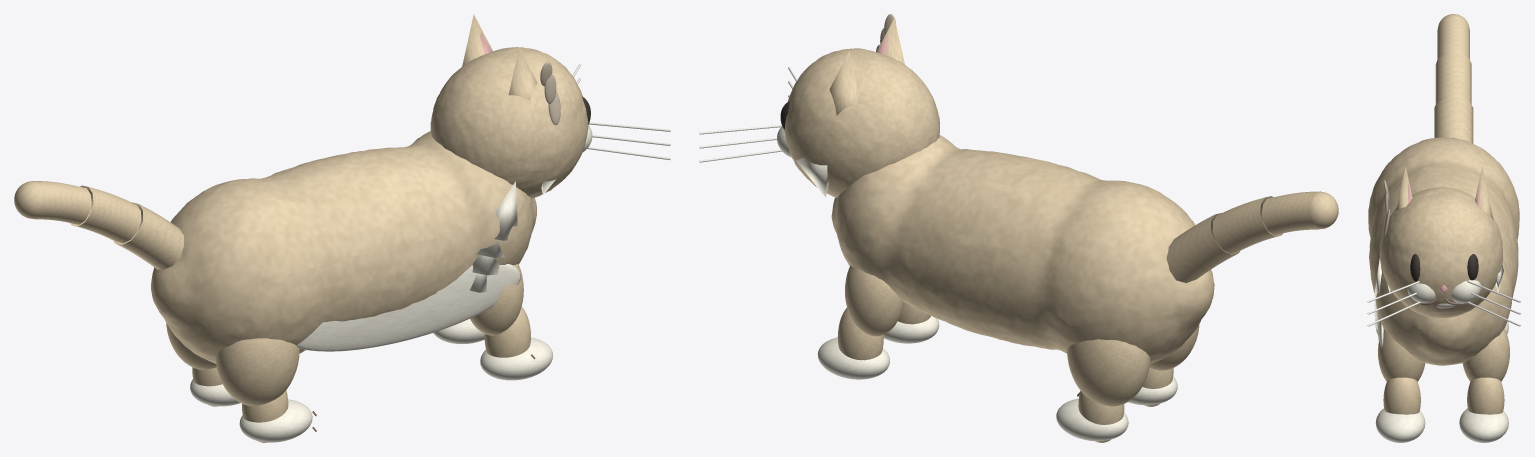
The model's file is cat-cream.glb.
The picture shows the model from 3 angles, left to right: view 1: azimuth 30°, elevation 25°; view 2: azimuth 150°, elevation 25°; view 3: azimuth 270°, elevation 25°; orthographic projection. The views are drawn at different scales.
Parts seen in each view (by area): view 1: Body.002, HeadMesh.002, BellyPatch.002, UpperLeg_BL.002, TailMesh_0.002, TailMesh_1.002, TailMesh_2.002, Paw_FL.002, Paw_BL.002, UpperLeg_FL.002, LowerLeg_FL.002, TailTip.002 (+7 smaller); view 2: Body.002, HeadMesh.002, UpperLeg_BR.002, UpperLeg_FR.002, TailMesh_0.002, TailMesh_1.002, TailMesh_2.002, Paw_FR.002, Paw_BR.002, LowerLeg_FR.002, Ear_Far.002, Paw_FL.002 (+5 smaller); view 3: Body.002, HeadMesh.002, TailMesh_1.002, TailMesh_0.002, UpperLeg_FR.002, UpperLeg_FL.002, LowerLeg_FR.002, LowerLeg_FL.002, Paw_FL.002, Paw_FR.002, TailMesh_2.002, Muzzle_Far.002 (+6 smaller).
Boxes of the visible parts, x1,y1,x2,y2 form: Body.002: (151, 131, 536, 363); HeadMesh.002: (430, 47, 588, 198); BellyPatch.002: (297, 264, 520, 351); UpperLeg_BL.002: (215, 338, 299, 406); TailMesh_0.002: (113, 202, 183, 269); TailMesh_1.002: (70, 185, 141, 243); TailMesh_2.002: (34, 181, 91, 224); Paw_FL.002: (480, 337, 552, 380); Paw_BL.002: (239, 399, 312, 442); UpperLeg_FL.002: (470, 264, 523, 335); LowerLeg_FL.002: (484, 306, 530, 357); TailTip.002: (14, 181, 44, 218); Body.002: (831, 135, 1214, 364); HeadMesh.002: (784, 48, 939, 197); UpperLeg_BR.002: (1067, 339, 1150, 406); UpperLeg_FR.002: (845, 265, 903, 336); TailMesh_0.002: (1166, 213, 1239, 282); TailMesh_1.002: (1212, 196, 1282, 253); TailMesh_2.002: (1262, 191, 1320, 234); Paw_FR.002: (817, 337, 889, 379); Paw_BR.002: (1056, 398, 1128, 441); LowerLeg_FR.002: (837, 308, 883, 360); Ear_Far.002: (829, 51, 861, 114); Paw_FL.002: (883, 316, 939, 343); Body.002: (1368, 137, 1519, 365); HeadMesh.002: (1379, 187, 1502, 317); TailMesh_1.002: (1435, 53, 1471, 104); TailMesh_0.002: (1434, 98, 1473, 143); UpperLeg_FR.002: (1462, 328, 1509, 381); UpperLeg_FL.002: (1378, 329, 1425, 381); LowerLeg_FR.002: (1467, 377, 1504, 414); LowerLeg_FL.002: (1383, 377, 1420, 414); Paw_FL.002: (1375, 408, 1425, 442); Paw_FR.002: (1459, 408, 1508, 442); TailMesh_2.002: (1437, 17, 1469, 59); Muzzle_Far.002: (1451, 280, 1481, 303).
Size of the model in its own units: 3.62 by 1.89 by 0.9469.
14 materials, 2 textured.
